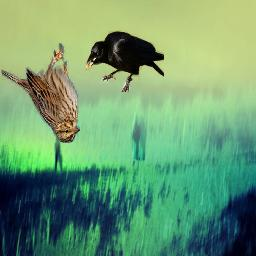Crow: (86, 30, 165, 92)
Sparrow: (2, 43, 81, 143)
